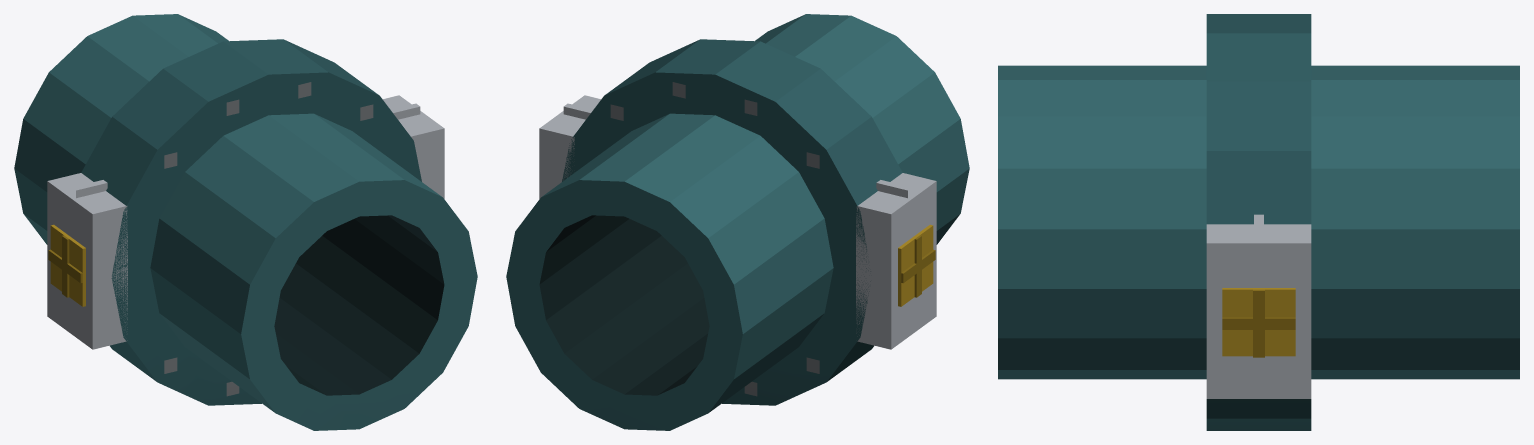
The model's file is pipe.junction.teal.glb.
3 renders of one model, left to right at view 1: azimuth 30°, elevation 25°; view 2: azimuth 150°, elevation 25°; view 3: azimuth 270°, elevation 25°, orthographic. The views are drawn at different scales.
Parts seen in each view (by area): view 1: pipe_junction_teal; view 2: pipe_junction_teal; view 3: pipe_junction_teal.
Part boxes in pixels (x1=…): pipe_junction_teal: x1=14, y1=14, x2=477, y2=430; pipe_junction_teal: x1=506, y1=14, x2=969, y2=430; pipe_junction_teal: x1=998, y1=14, x2=1519, y2=430.
Size of what is drawn, in the model's own units: 1.96 by 1.7 by 2.12.
